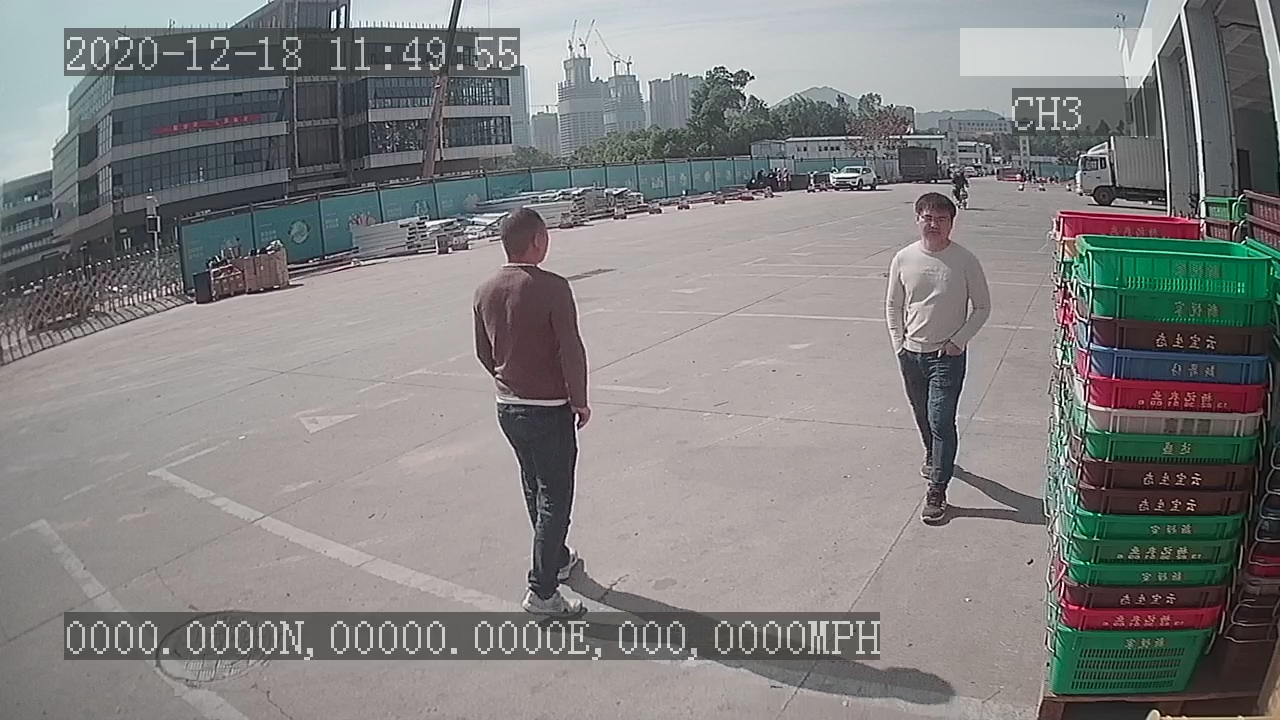person: (881, 186, 995, 527)
